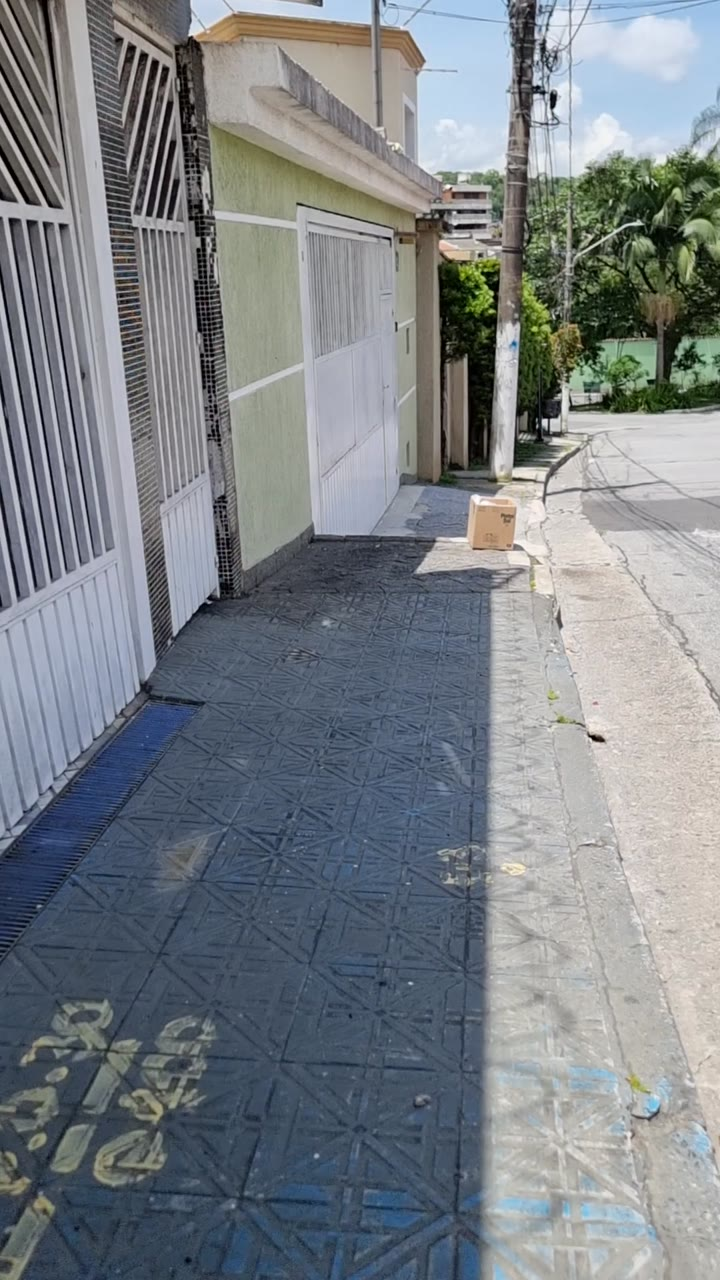obstaculo: (497, 0, 540, 538), (461, 563, 518, 640)
